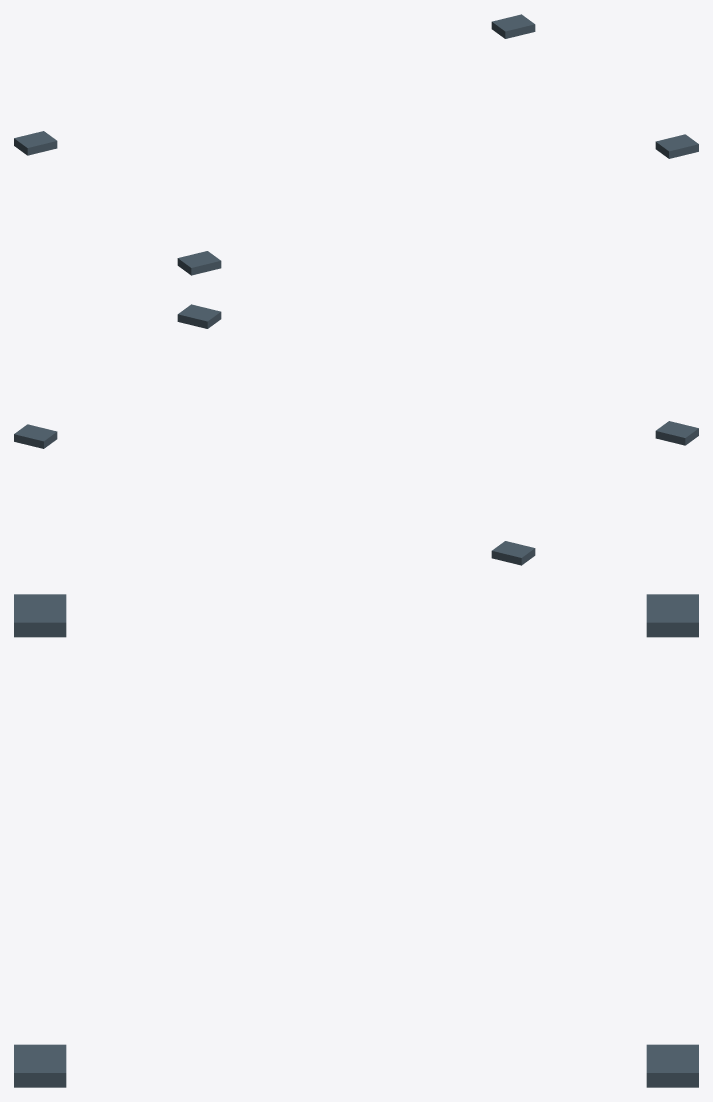
File: P16-04_detail15.obj
The picture shows the model from 3 angles, top to bottom: view 1: azimuth 30°, elevation 25°; view 2: azimuth 150°, elevation 25°; view 3: azimuth 270°, elevation 25°; orthographic projection. The views are drawn at different scales.
Parts seen in each view (by area): view 1: P16-04_STATIC_Steel_DETAIL15_DiffuserRetainer_L_P, P16-04_STATIC_Steel_DETAIL15_DiffuserRetainer_R_N, P16-04_STATIC_Steel_DETAIL15_DiffuserRetainer_L_N, P16-04_STATIC_Steel_DETAIL15_DiffuserRetainer_R_P; view 2: P16-04_STATIC_Steel_DETAIL15_DiffuserRetainer_L_N, P16-04_STATIC_Steel_DETAIL15_DiffuserRetainer_R_P, P16-04_STATIC_Steel_DETAIL15_DiffuserRetainer_L_P, P16-04_STATIC_Steel_DETAIL15_DiffuserRetainer_R_N; view 3: P16-04_STATIC_Steel_DETAIL15_DiffuserRetainer_L_N, P16-04_STATIC_Steel_DETAIL15_DiffuserRetainer_L_P, P16-04_STATIC_Steel_DETAIL15_DiffuserRetainer_R_N, P16-04_STATIC_Steel_DETAIL15_DiffuserRetainer_R_P.
Part boxes in pixels (bbox=[...]): P16-04_STATIC_Steel_DETAIL15_DiffuserRetainer_L_P: bbox=[177, 251, 221, 275]; P16-04_STATIC_Steel_DETAIL15_DiffuserRetainer_R_N: bbox=[491, 14, 535, 38]; P16-04_STATIC_Steel_DETAIL15_DiffuserRetainer_L_N: bbox=[14, 131, 57, 155]; P16-04_STATIC_Steel_DETAIL15_DiffuserRetainer_R_P: bbox=[655, 134, 698, 158]; P16-04_STATIC_Steel_DETAIL15_DiffuserRetainer_L_N: bbox=[491, 541, 535, 565]; P16-04_STATIC_Steel_DETAIL15_DiffuserRetainer_R_P: bbox=[177, 304, 221, 328]; P16-04_STATIC_Steel_DETAIL15_DiffuserRetainer_L_P: bbox=[655, 421, 698, 445]; P16-04_STATIC_Steel_DETAIL15_DiffuserRetainer_R_N: bbox=[14, 424, 57, 448]; P16-04_STATIC_Steel_DETAIL15_DiffuserRetainer_L_N: bbox=[646, 594, 698, 637]; P16-04_STATIC_Steel_DETAIL15_DiffuserRetainer_L_P: bbox=[14, 594, 66, 637]; P16-04_STATIC_Steel_DETAIL15_DiffuserRetainer_R_N: bbox=[646, 1044, 698, 1087]; P16-04_STATIC_Steel_DETAIL15_DiffuserRetainer_R_P: bbox=[14, 1044, 66, 1087].
Bounding box in the file's own units: 1.19 × 0.017 × 0.72.
